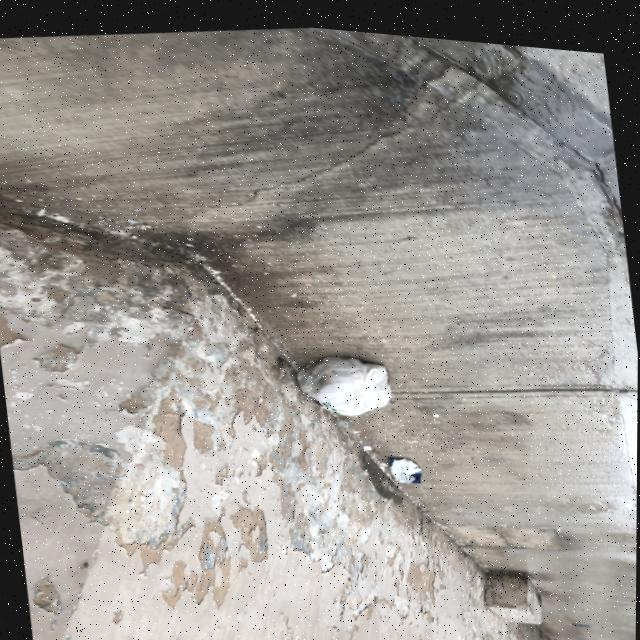Organic Waste -White Bag-: (295, 341, 395, 419)
Other: (387, 445, 429, 481)
